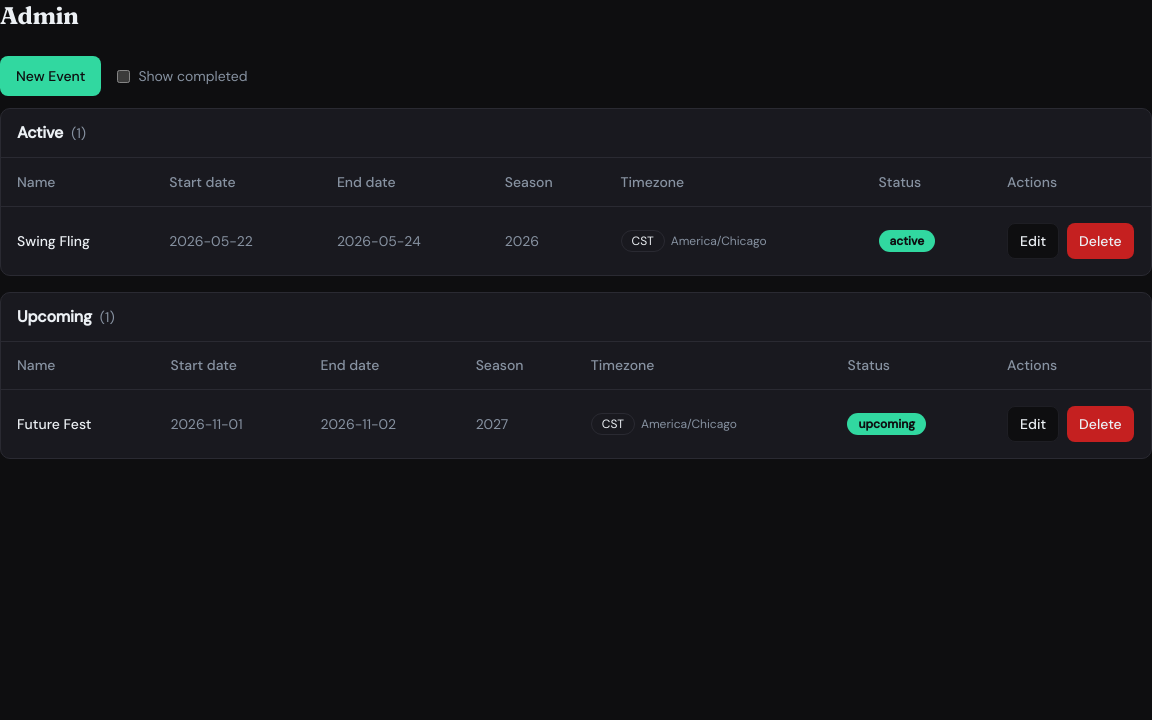
it: AdminPage — Events section › deletes an event only after confirmation
The width and height of the screenshot is (1152, 720).
Expected: the link "Swing Fling" is shown, [17, 232, 90, 250]
Click the button "Delete" in the row of "Swing Fling" at x=1100, y=240, box [1067, 222, 1134, 258]
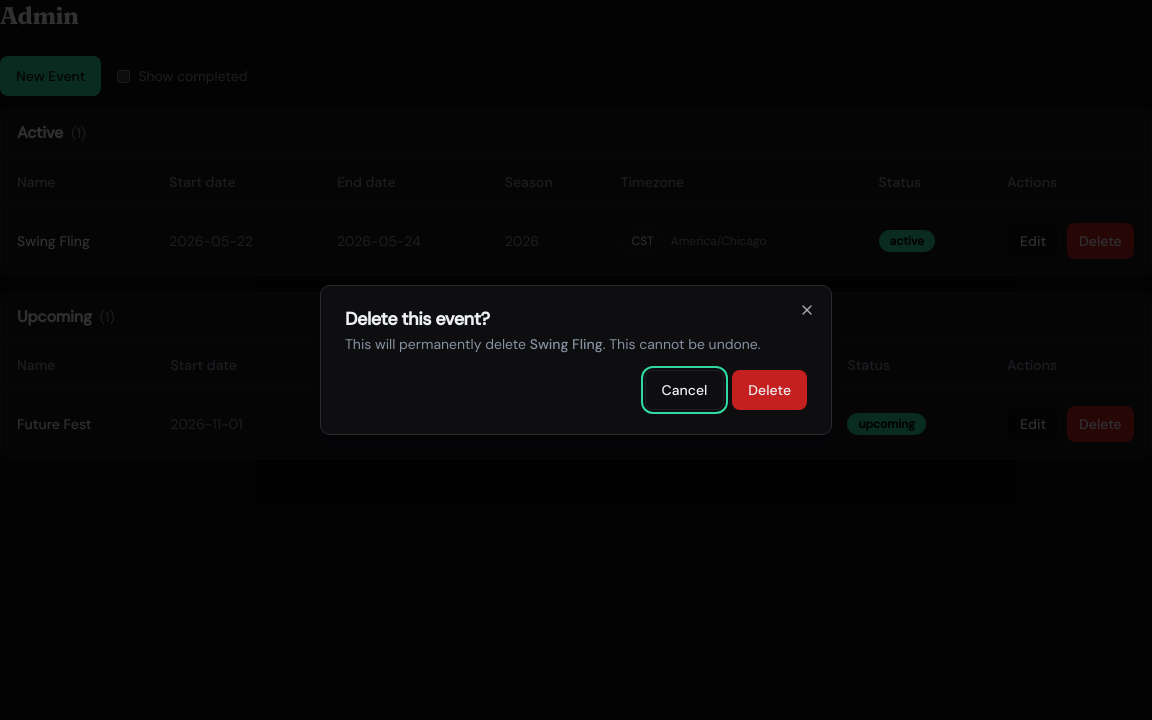
Expected: the dialog shows "This will permanently delete Swing Fling", [320, 285, 832, 435]
Cancel first: nothing is deleted.
Click the button "Cancel" at x=684, y=390, box [645, 370, 724, 410]
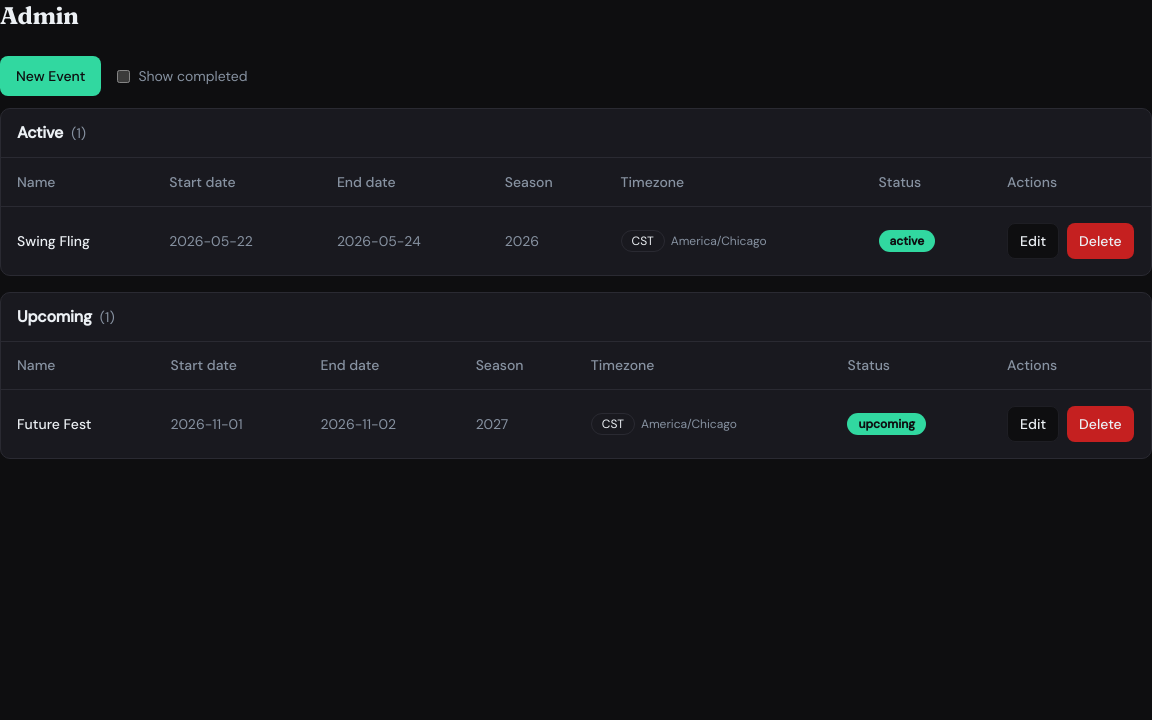
Click the button "Delete" in the row of "Swing Fling" at x=1100, y=240, box [1067, 222, 1134, 258]
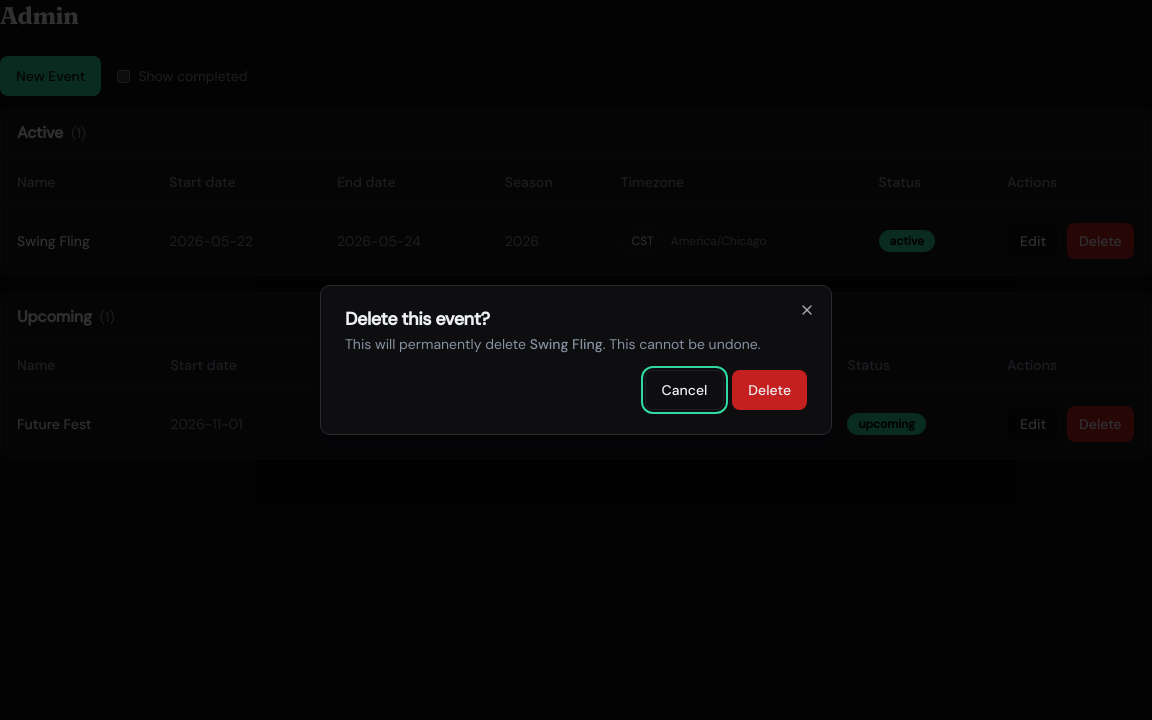
Click the button "Delete" at x=770, y=390, box [732, 370, 807, 410]
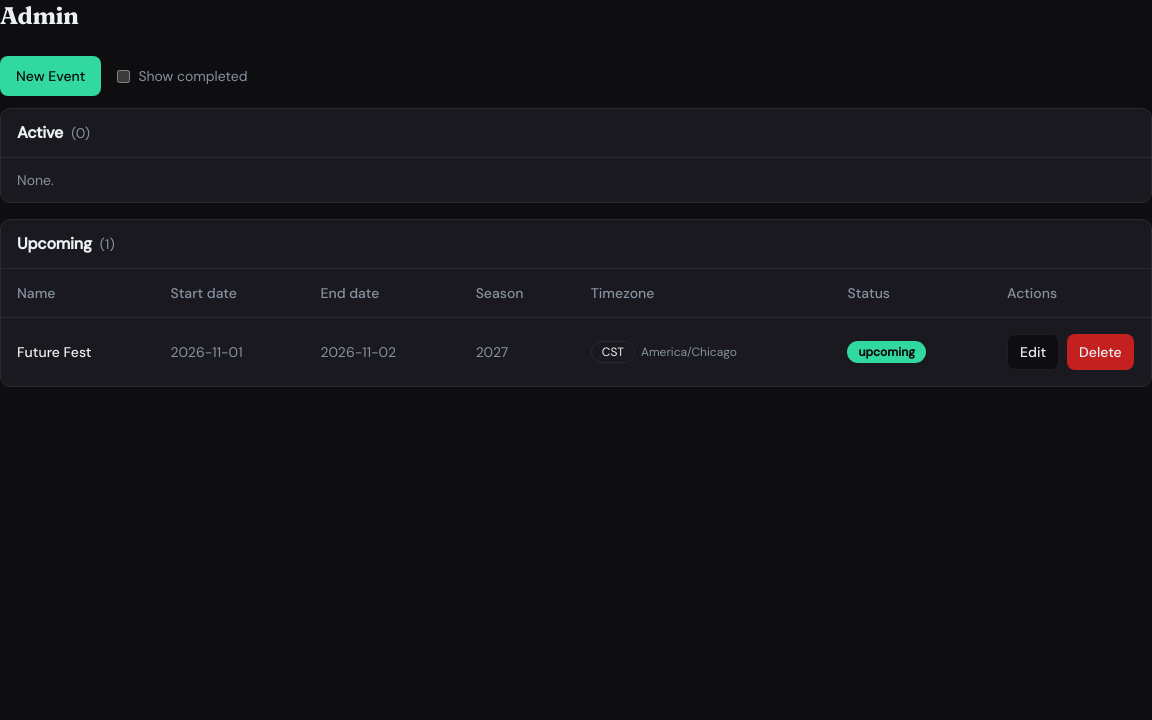
Expected: the link "Future Fest" is shown, [17, 342, 91, 360]
Expected: the link "Swing Fling" is gone
